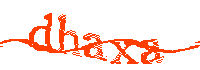a: (82, 31, 107, 61), (137, 39, 165, 65)
d: (28, 14, 52, 51)
h: (56, 15, 81, 58)
x: (109, 39, 140, 65)
